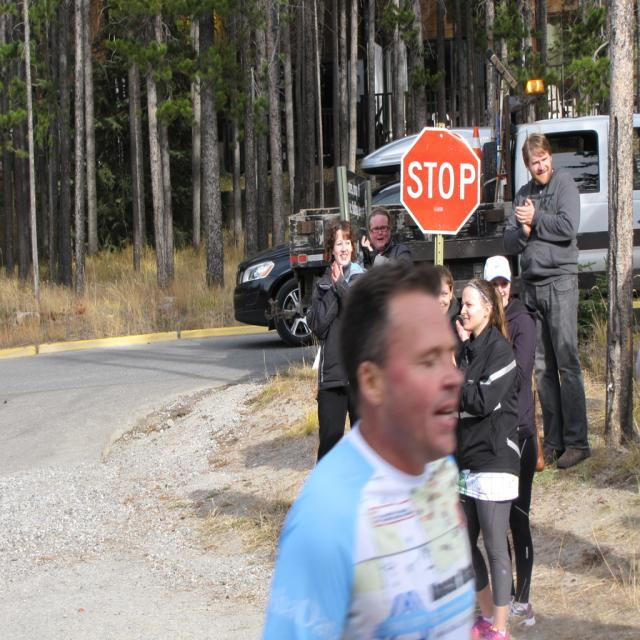Stop-sign: (399, 125, 482, 236)
